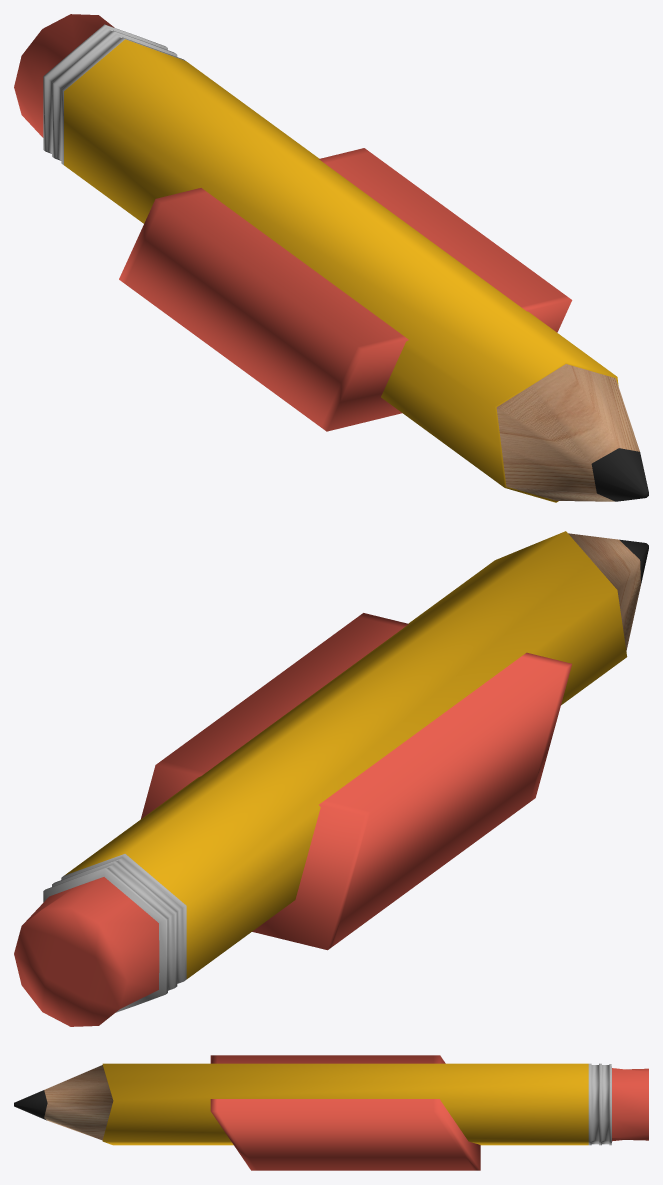
File: pencil.glb
3 renders of one model, top to bottom at view 1: azimuth 30°, elevation 25°; view 2: azimuth 150°, elevation 25°; view 3: azimuth 270°, elevation 25°, orthographic. The views are drawn at different scales.
Visible parts, largest first — view 1: Cylinder, Cube; view 2: Cylinder, Cube; view 3: Cylinder, Cube.
Boxes of the visible parts, <box> form: Cylinder: <box>14,14,648,502</box>; Cube: <box>119,148,572,431</box>; Cylinder: <box>14,531,648,1026</box>; Cube: <box>141,613,571,950</box>; Cylinder: <box>14,1063,648,1145</box>; Cube: <box>210,1055,480,1170</box>.
Bounding box in the file's own units: 3.03 × 2.06 × 14.48.
Materials: 5 (1 with a texture image).
